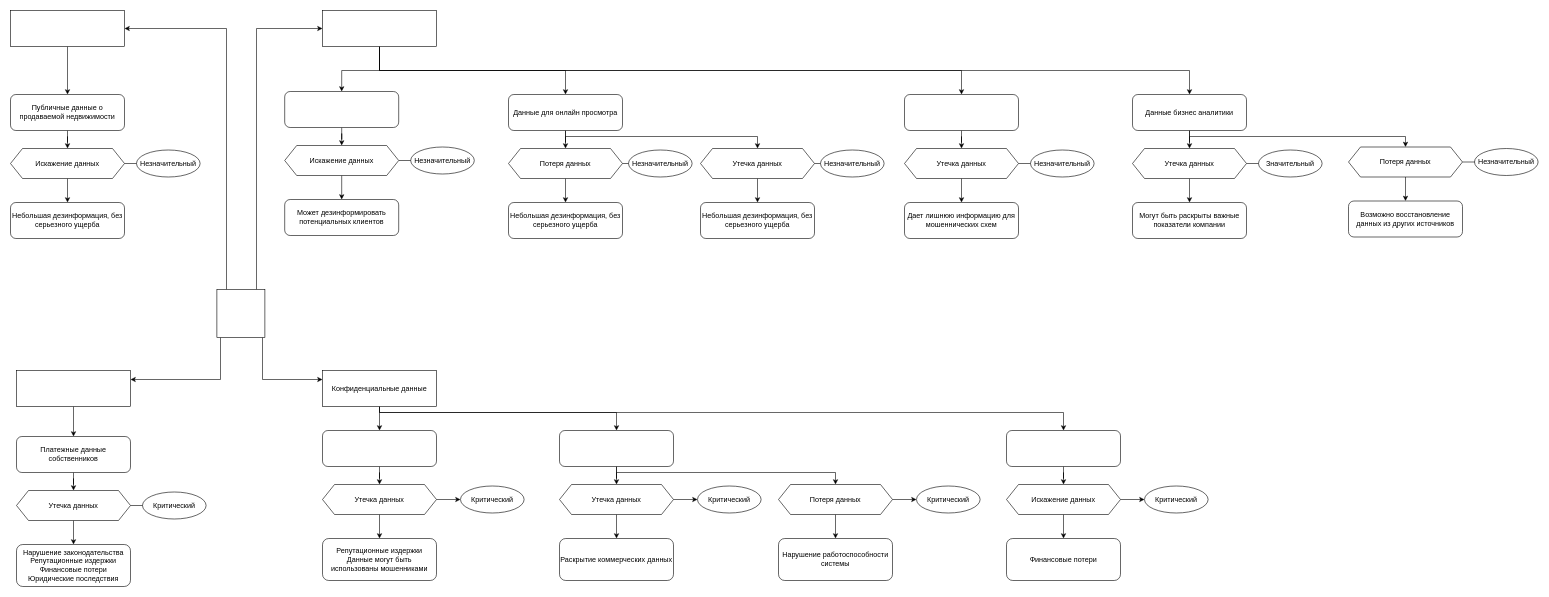
This 1549x597 diagram has some shape labels left out. Each missing label, with the centre of its shape:
"Безопасность Данных" goes at point (240, 313).
"Внутренние данные" goes at point (379, 28).
"Данные ЖКХ" goes at point (961, 112).
"Данные о недвижимости" goes at point (341, 109).
"Информация об онлайн сделках" goes at point (616, 448).
"Персональные данные собственников" goes at point (379, 448).
"Публичные данные" goes at point (67, 28).
"Секретные данные" goes at point (73, 388).
"Финансовая информация" goes at point (1063, 448).
